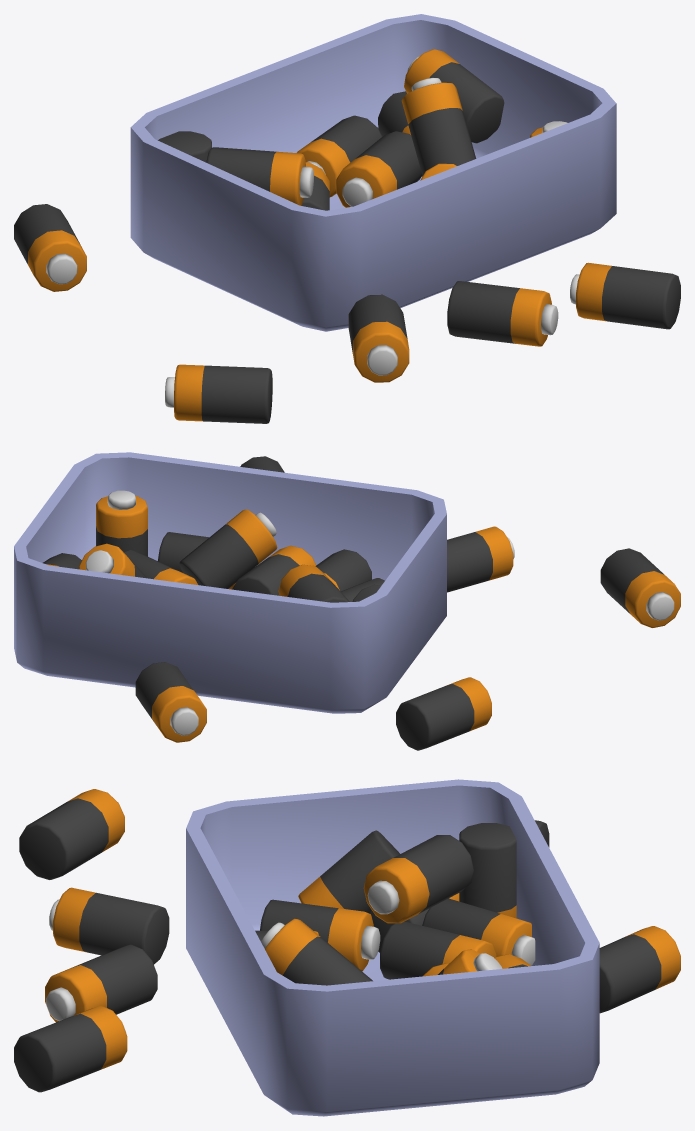
The picture shows the model from 3 angles, top to bottom: view 1: azimuth 30°, elevation 25°; view 2: azimuth 150°, elevation 25°; view 3: azimuth 270°, elevation 25°; orthographic projection. The views are drawn at different scales.
Parts seen in each view (by area): view 1: Cube; view 2: Cube; view 3: Cube.
Part boxes in pixels (box(x1,y1,x2,y2)): Cube: box(14, 14, 680, 423); Cube: box(14, 452, 680, 750); Cube: box(14, 779, 680, 1116).
Bounding box in the file's own units: 358 × 78.53 × 349.
